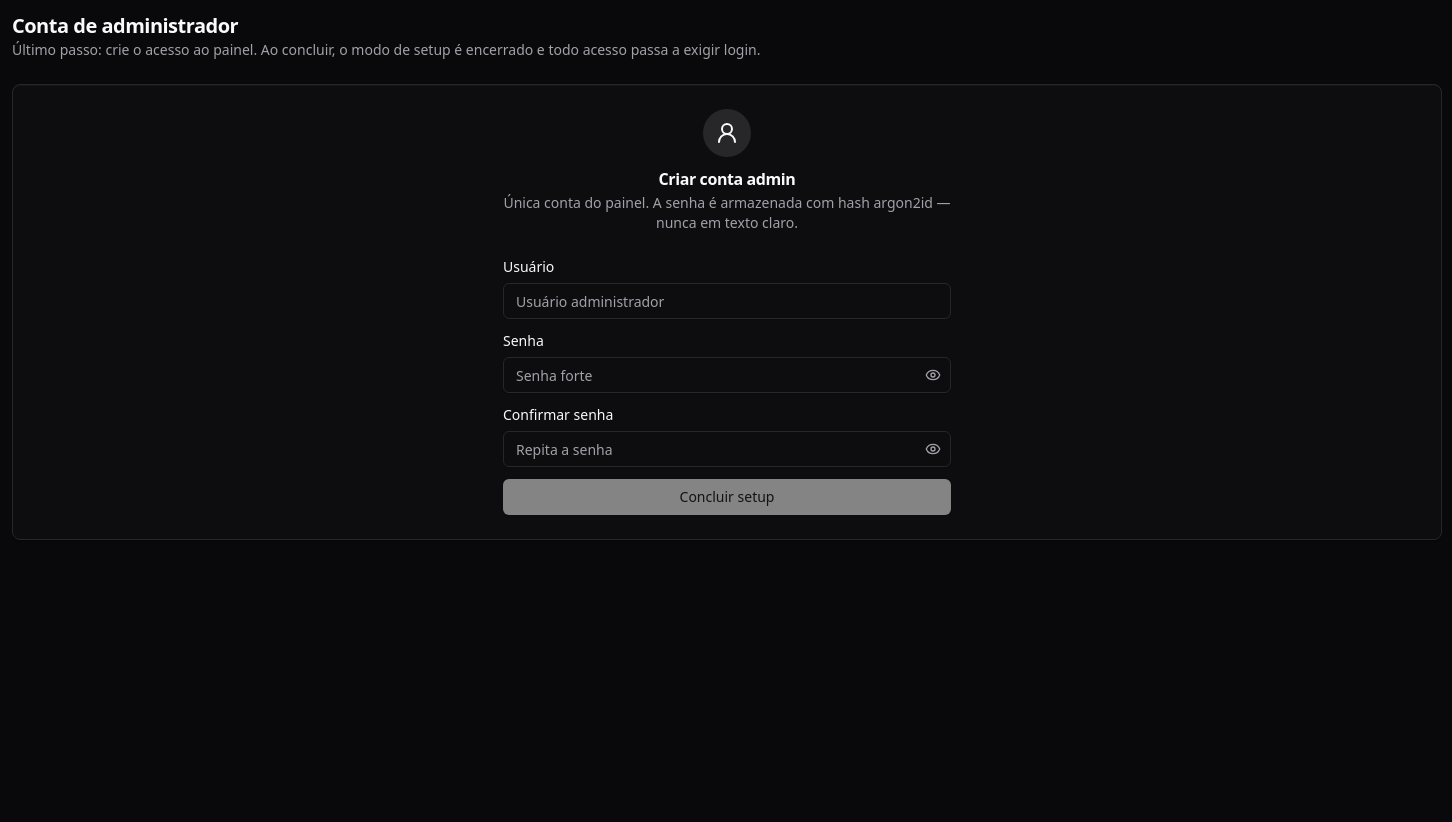
Test case: AdminStep (Passo 4 do wizard) › botão desabilitado até usuário válido + senha forte + confirmação igual
This screenshot has width=1452, height=822.
Expected: the button "Concluir setup" is disabled, [503, 479, 951, 515]
In the field labelled "Usuário": [727, 301] box [503, 283, 951, 319], type "admin"
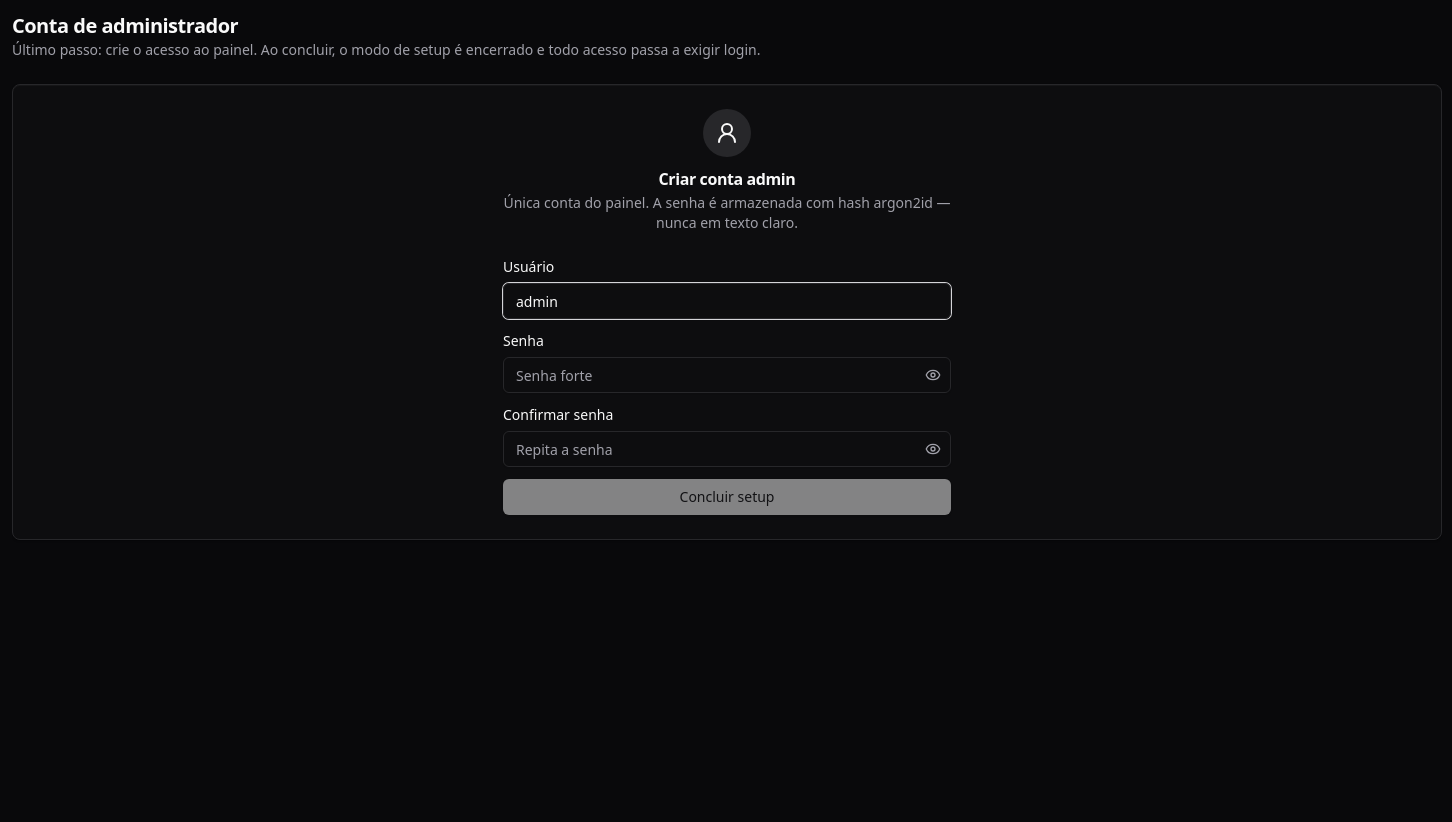
In the password field labelled "Senha": [727, 375] box [503, 357, 951, 393], type "MinhaSenha123"
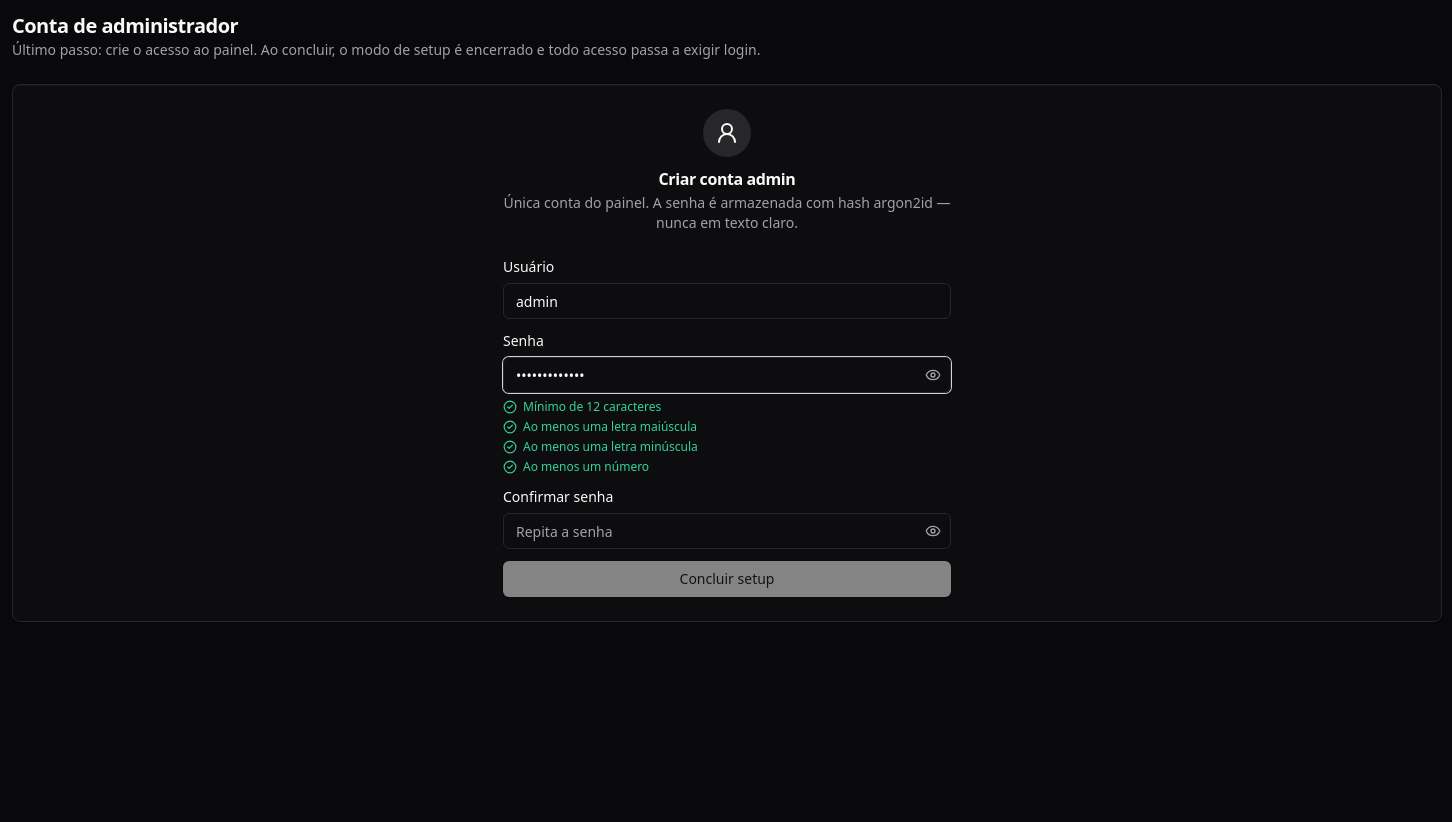
Expected: the button "Concluir setup" is disabled, [503, 561, 951, 597]
In the password field labelled "Confirmar senha": [727, 531] box [503, 513, 951, 549], type "MinhaSenha123"
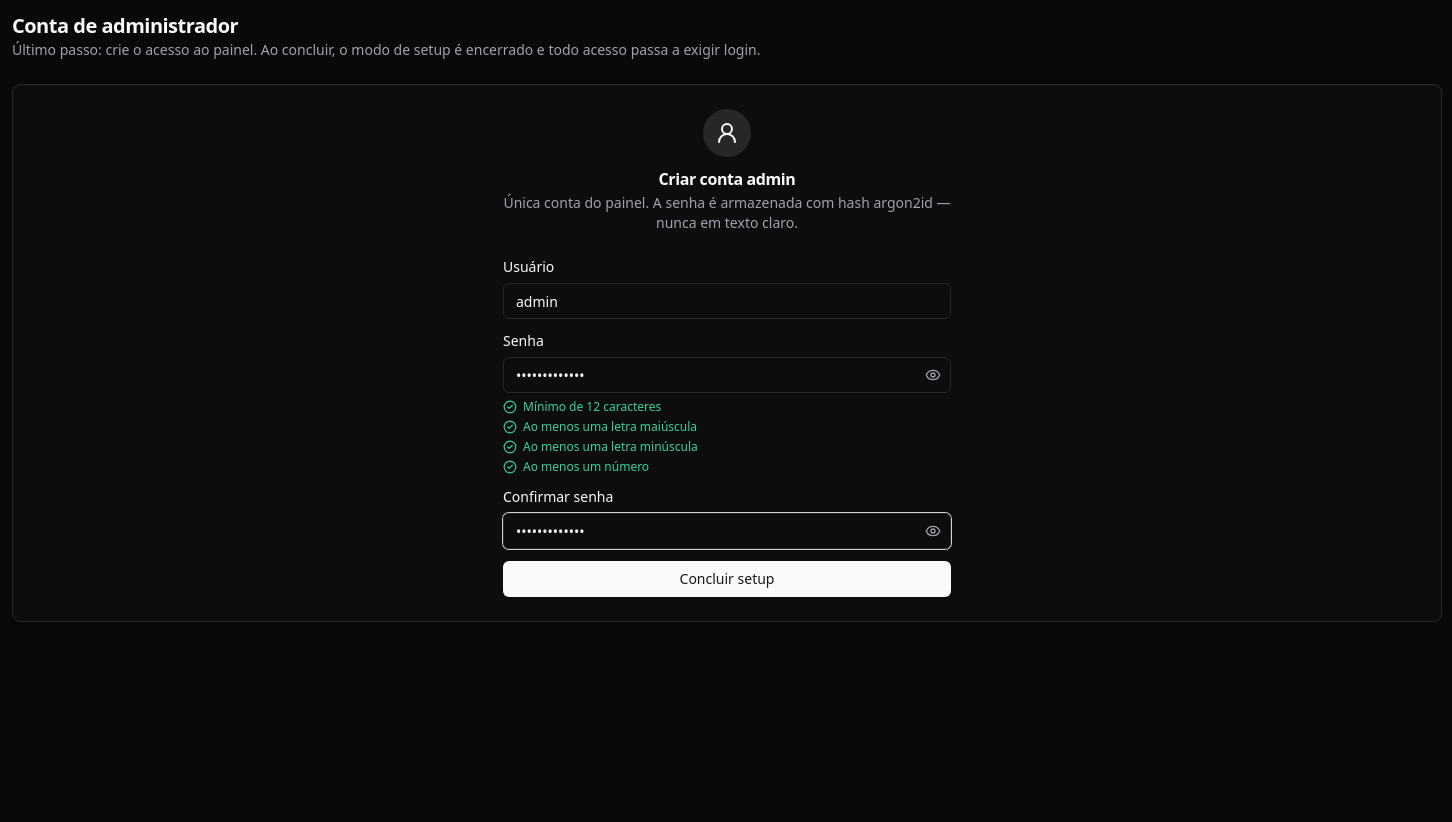
Expected: the button "Concluir setup" is enabled, [503, 561, 951, 597]
